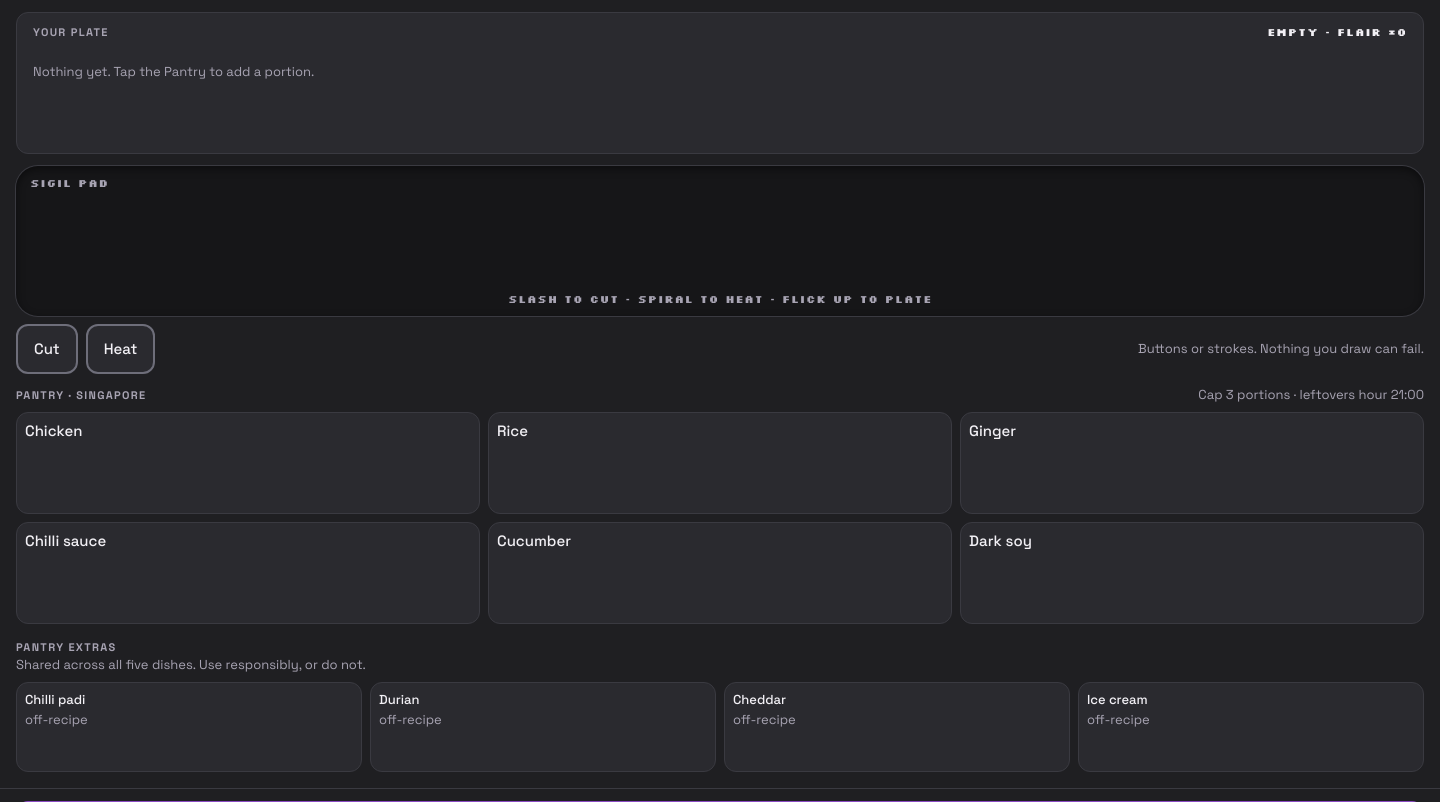
the Station (the prototype’s BaD STATION on BaD’s rules) › a tap takes a portion; Cut and Heat prep the aimed item; chips and cards agree
Click the button "Chicken" at (54, 430), box [17,413,479,513]
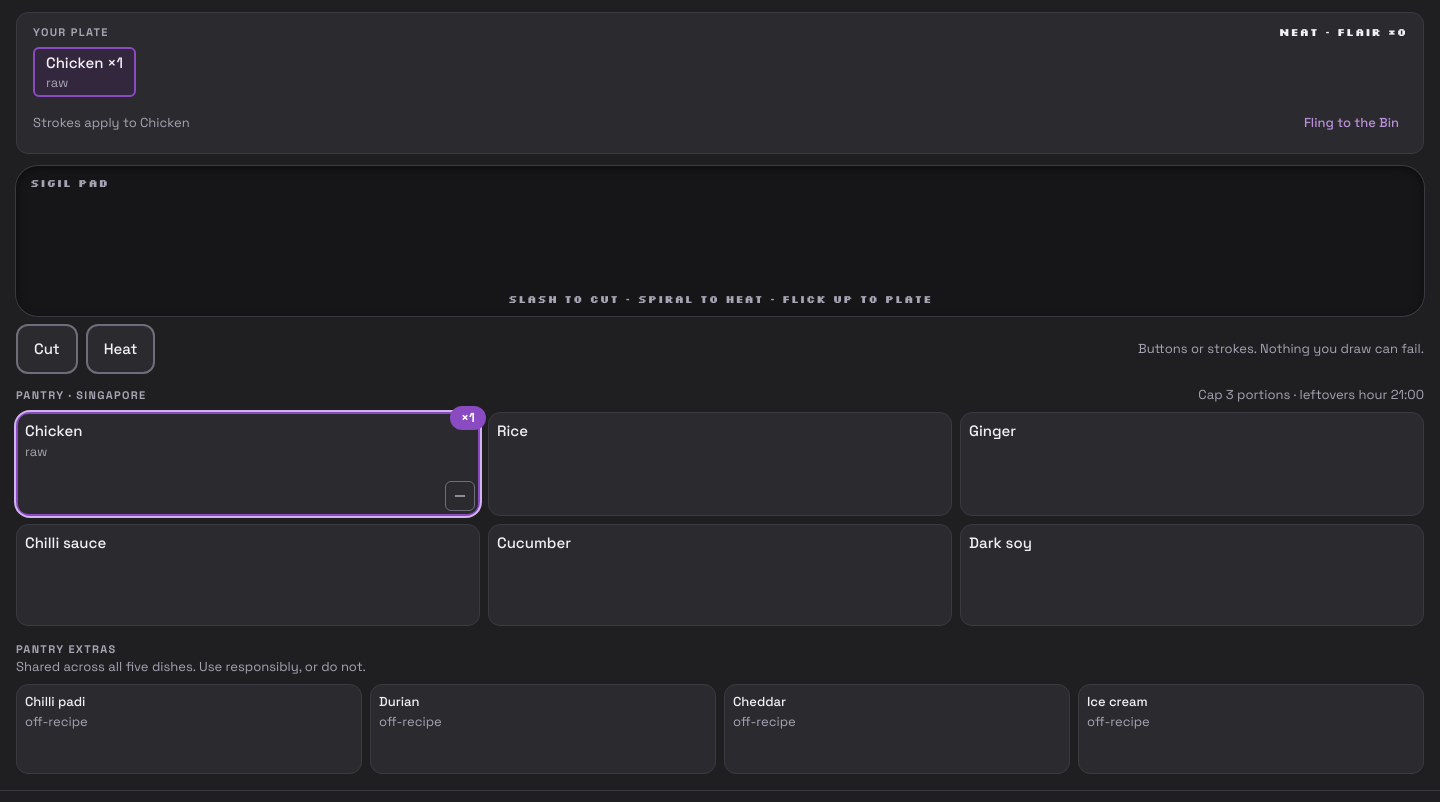
Expected: the text "Chicken ×1" is shown, [46,52,123,74]
Expected: the text "raw" is shown 2 times, [46,74,68,92]; [25,443,48,461]
Expected: the text "Strokes apply to Chicken" is shown, [33,114,190,132]
Click the button "Cut" at (47, 349), box [16,324,78,374]
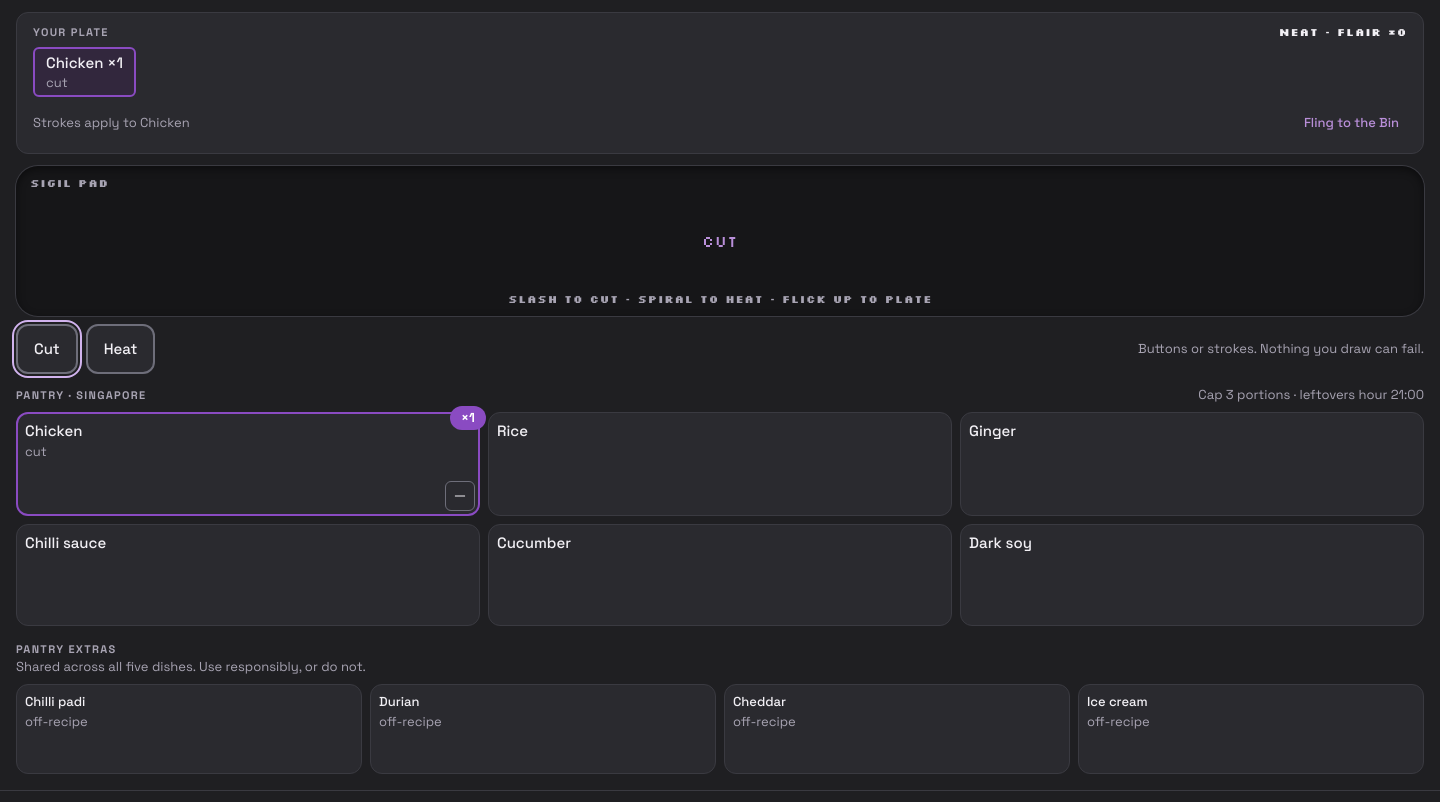
Expected: the text "cut" is shown 2 times, [46,74,68,92]; [25,443,47,461]
Expected: the text with test id "sigil-word" reads "CUT", [702,231,738,251]
Click the button "Heat" at (120, 349), box [86,324,155,374]
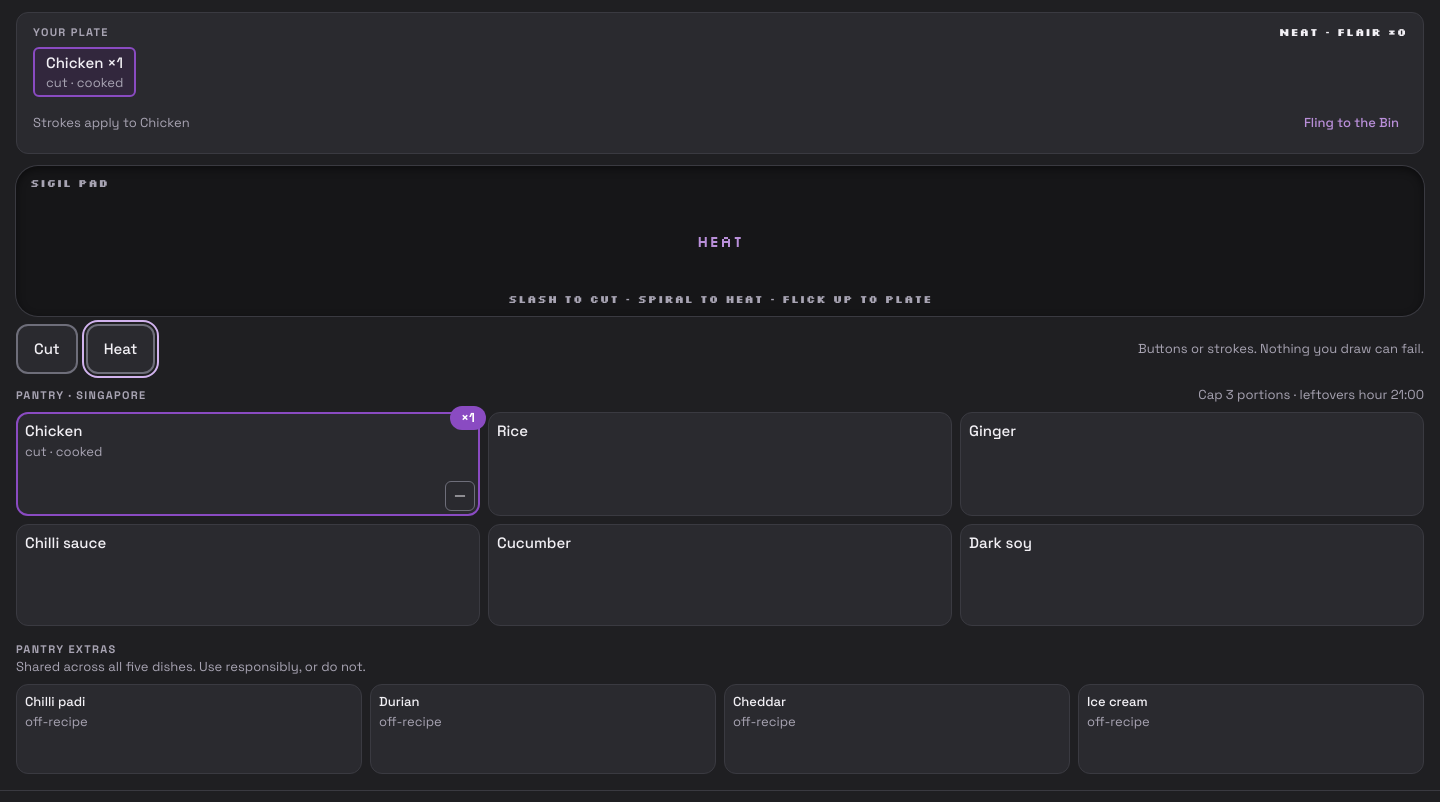
Expected: the text "cut · cooked" is shown 2 times, [46,74,123,92]; [25,443,102,461]
Click the button "Rice" at (512, 430), box [489,413,951,515]
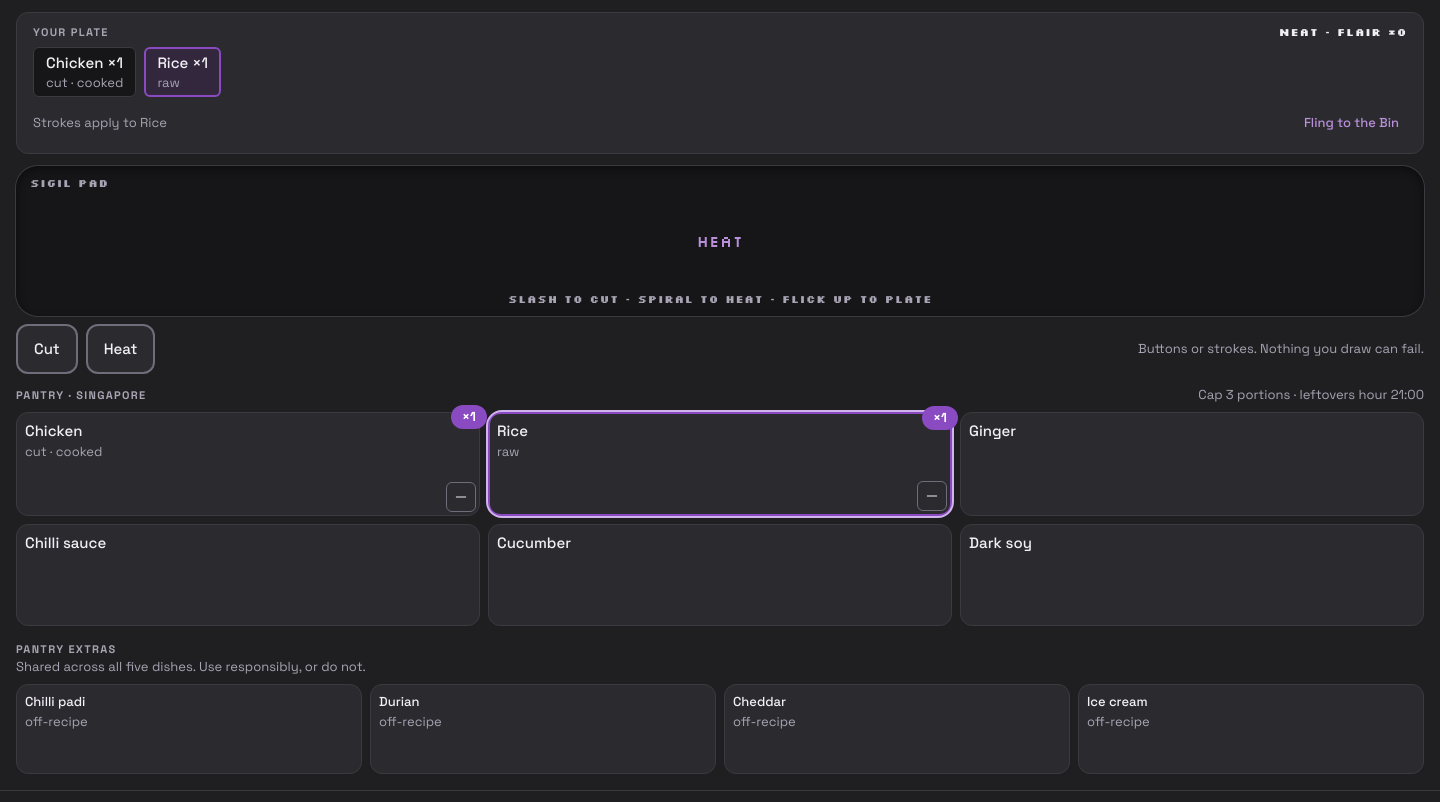
Click the button "Rice ×1 raw" below "Cap 3 portions · leftovers hour 21:00" at (512, 430), box [490,414,950,514]
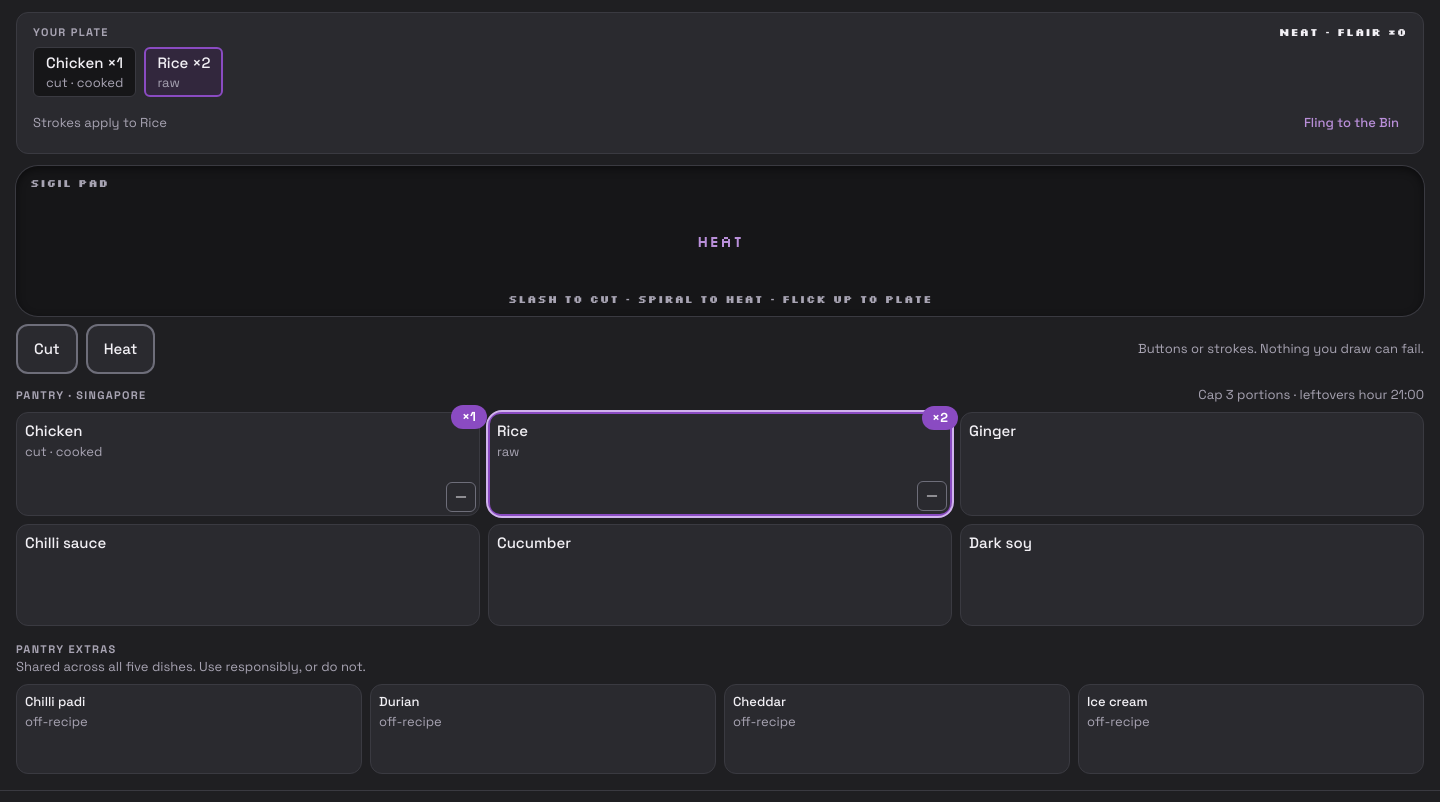
Expected: the text "Neat · Flair ×0" is shown, [1279,25,1407,39]
Expected: the text "Rice ×2" is shown, [157,52,210,74]
Expected: the text "×2" is shown, [922,406,958,430]
